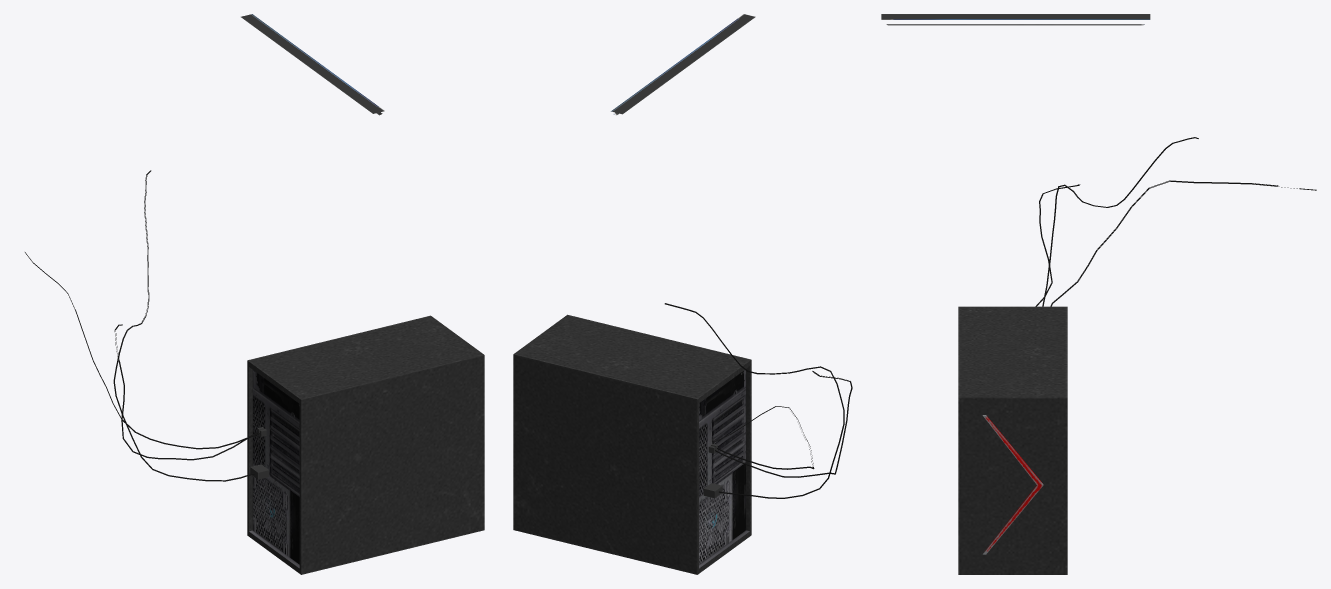
Rendered from servidor.glb.
3 renders of one model, left to right at view 1: azimuth 30°, elevation 25°; view 2: azimuth 150°, elevation 25°; view 3: azimuth 270°, elevation 25°, orthographic.
Visible parts, largest first — view 1: Cube.029_Material_0.168, Cube.029_Material_0.170, Cube.029_Material_0.174, Cube.029_Material_0.082, Cube.029_Material_0.171, Cube.029_Material_0.165; view 2: Cube.029_Material_0.166, Cube.029_Material_0.170, Cube.029_Material_0.174, Cube.029_Material_0.082, Cube.029_Material_0.171, Cube.029_Material_0.175, Cube.029_Material_0.231; view 3: Cube.029_Material_0.167, Cube.029_Material_0.170, Cube.029_Material_0.082.
Part boxes in pixels (x1,y1,x2,y2): Cube.029_Material_0.168: (301, 355, 484, 574); Cube.029_Material_0.170: (247, 315, 484, 399); Cube.029_Material_0.174: (253, 370, 299, 564); Cube.029_Material_0.082: (241, 14, 384, 113); Cube.029_Material_0.171: (247, 360, 300, 574); Cube.029_Material_0.165: (249, 367, 252, 531); Cube.029_Material_0.166: (513, 354, 697, 574); Cube.029_Material_0.170: (514, 314, 750, 399); Cube.029_Material_0.174: (699, 370, 745, 564); Cube.029_Material_0.082: (611, 14, 755, 114); Cube.029_Material_0.171: (697, 360, 751, 574); Cube.029_Material_0.175: (746, 366, 749, 530); Cube.029_Material_0.231: (664, 303, 844, 498); Cube.029_Material_0.167: (958, 397, 1067, 574); Cube.029_Material_0.170: (958, 306, 1067, 397); Cube.029_Material_0.082: (881, 14, 1150, 19).
Bounding box in the file's own units: 5.58 × 7.84 × 6.35.
1 material, 1 textured.
